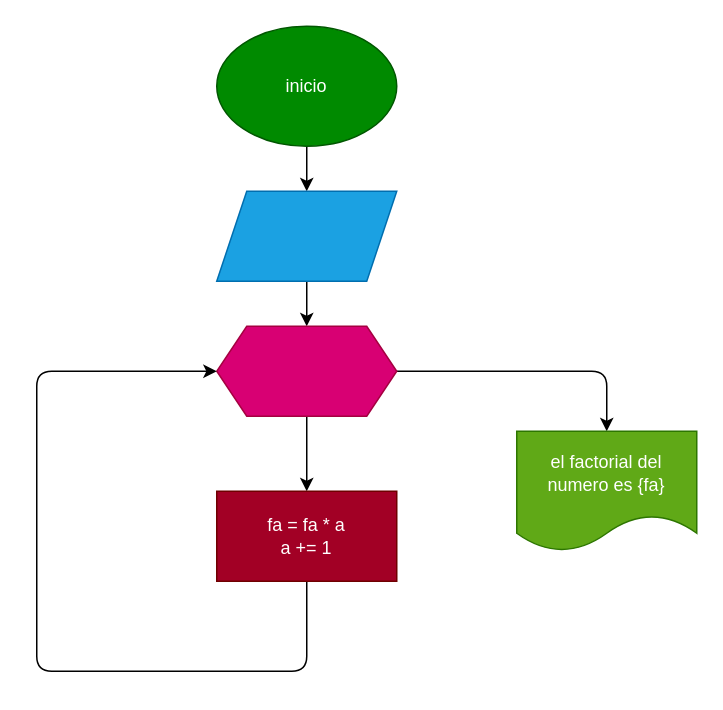
The diagram is 723 pixels wide and 710 high, and some of its shapes have lost their labels. Each missing label, with the centre of its shape:
"i = range (n)" goes at [306,370].
"n fa = 1 a = 1" goes at [306,235].
